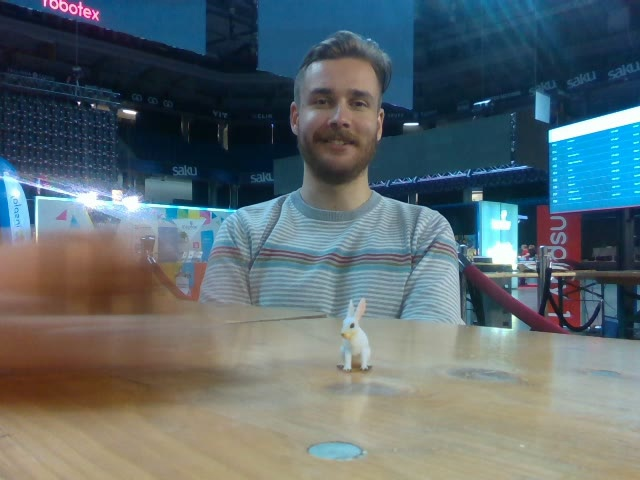toy: (339, 296, 371, 370)
